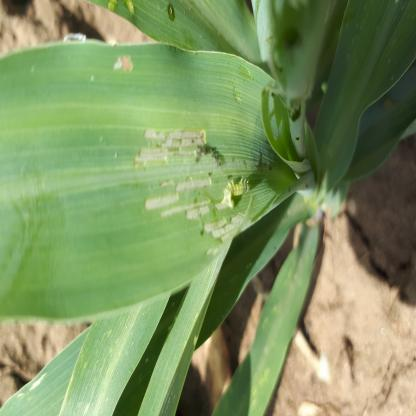armyworm: (116, 394, 135, 416)
